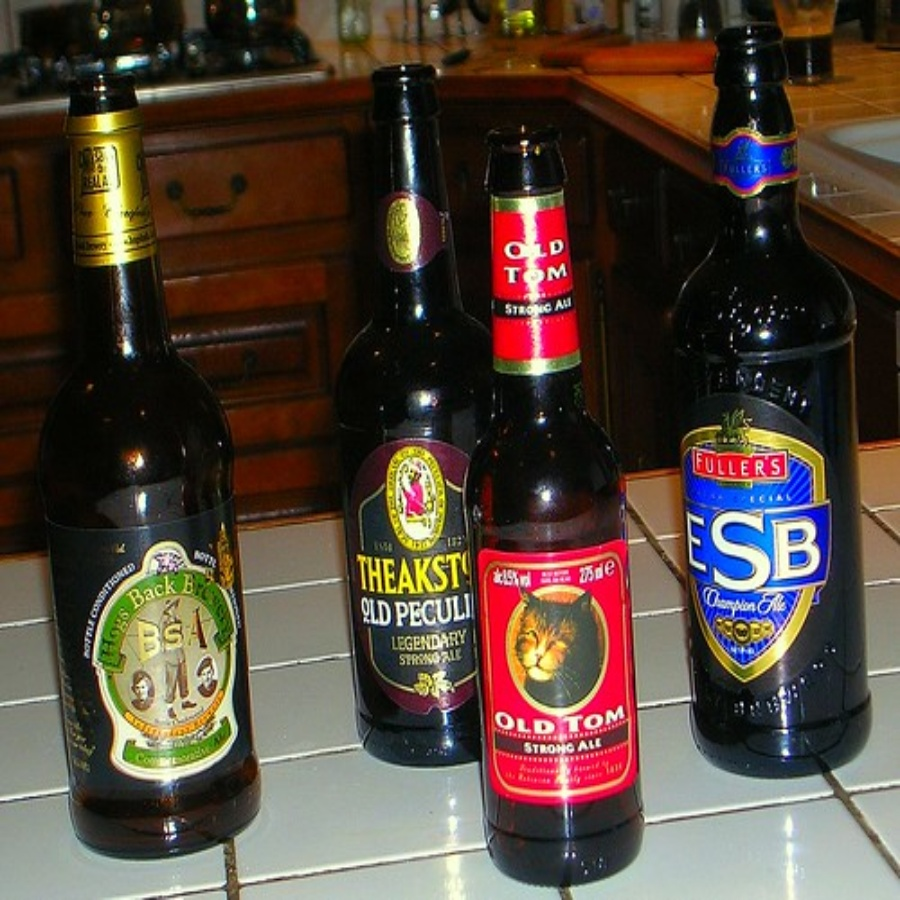beer: (38, 63, 271, 836), (441, 129, 650, 892), (686, 25, 879, 778), (338, 77, 485, 788)
